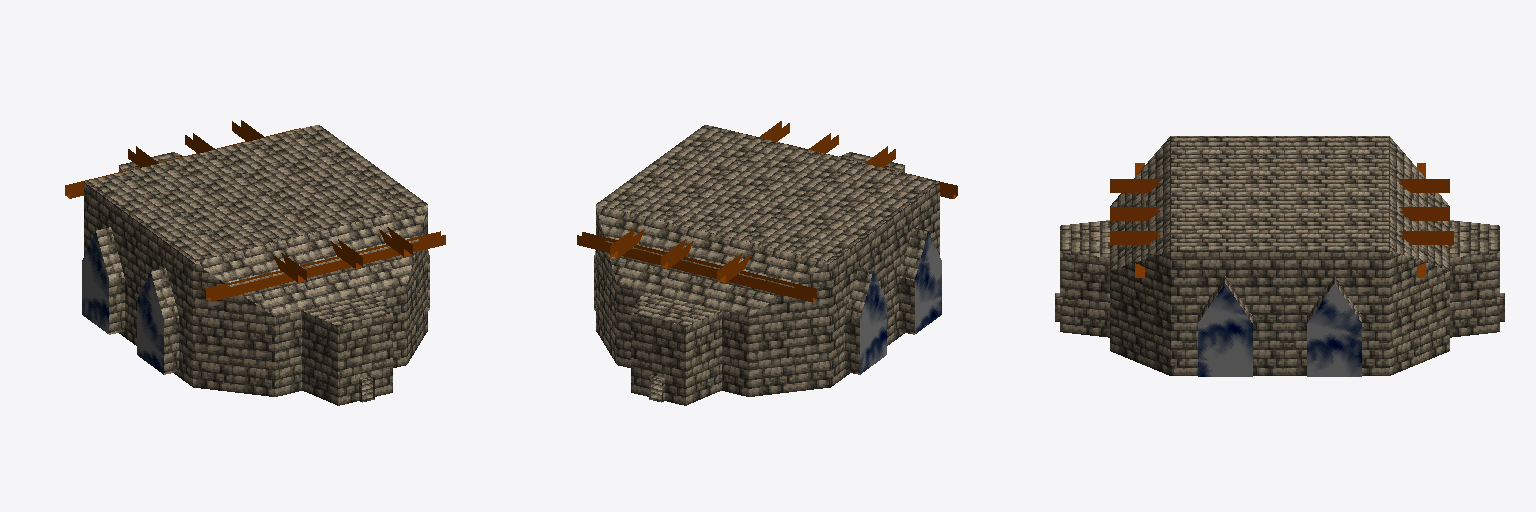
3 renders of one model, left to right at view 1: azimuth 30°, elevation 25°; view 2: azimuth 150°, elevation 25°; view 3: azimuth 270°, elevation 25°, orthographic.
Visible parts, largest first — view 1: mesh.008__198.006, mesh.008__237.004, mesh.008__256.004; view 2: mesh.008__198.006, mesh.008__237.004, mesh.008__256.004; view 3: mesh.008__198.006, mesh.008__256.004, mesh.008__237.004.
Boxes of the visible parts, box(x1,y1,x2,y2) form: mesh.008__198.006: box(84, 125, 429, 405); mesh.008__237.004: box(65, 120, 445, 301); mesh.008__256.004: box(82, 231, 163, 374); mesh.008__198.006: box(594, 125, 939, 405); mesh.008__237.004: box(577, 121, 957, 302); mesh.008__256.004: box(860, 231, 941, 374); mesh.008__198.006: box(1055, 136, 1504, 375); mesh.008__256.004: box(1198, 284, 1361, 376); mesh.008__237.004: box(1110, 163, 1453, 277).
Bounding box in the file's own units: 1217 × 550 × 1785.
6 materials, 4 textured.